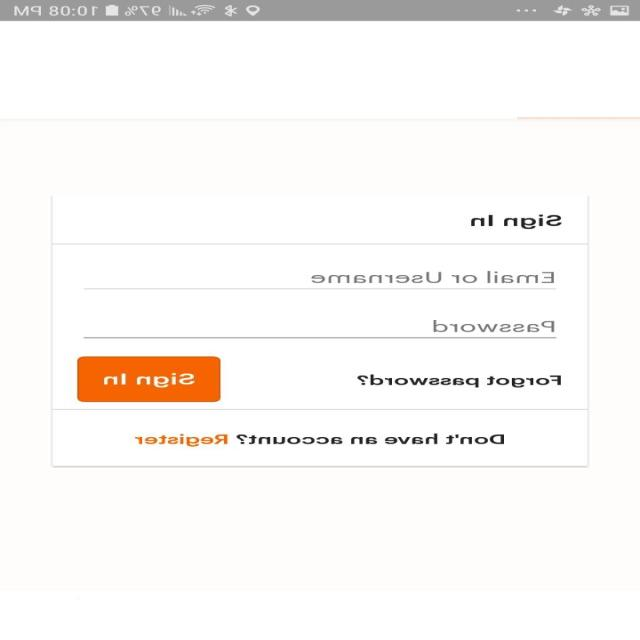EditText: (83, 270, 558, 290), (83, 320, 558, 338)
Text: (135, 433, 505, 447), (311, 270, 555, 283), (357, 374, 562, 387), (433, 319, 555, 332), (471, 214, 564, 230)
TextButton: (77, 356, 222, 402)
